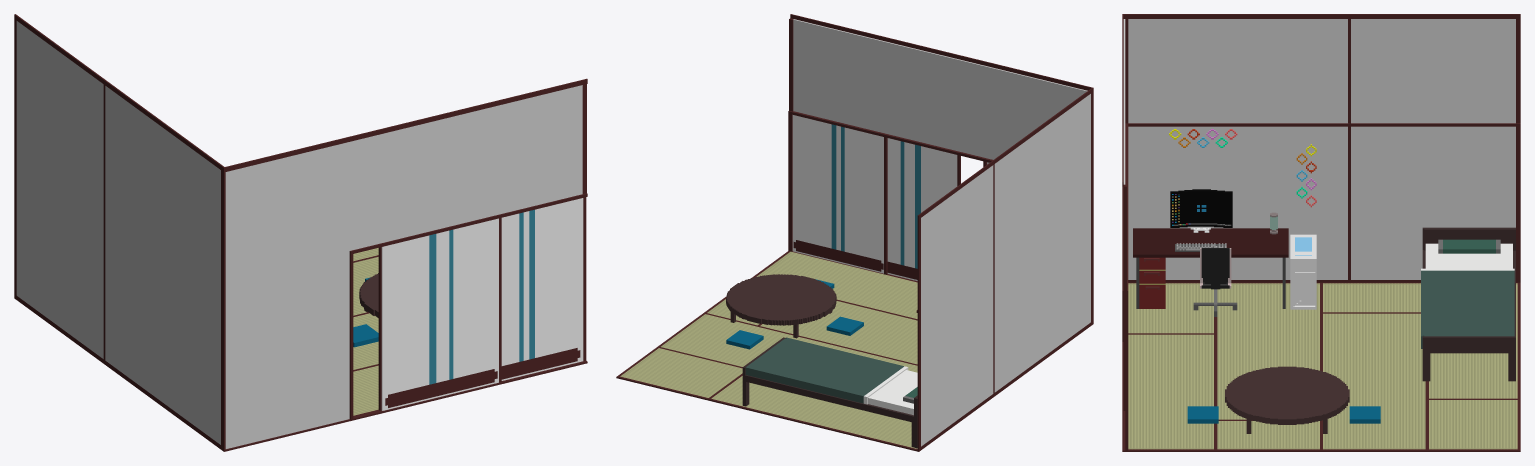
The model's file is (back up)Master.obj.
3 renders of one model, left to right at view 1: azimuth 30°, elevation 25°; view 2: azimuth 150°, elevation 25°; view 3: azimuth 270°, elevation 25°, orthographic. The views are drawn at different scales.
Bounding box in the file's own units: 25.6 × 19.1 × 25.6.
1 material, 1 textured.
